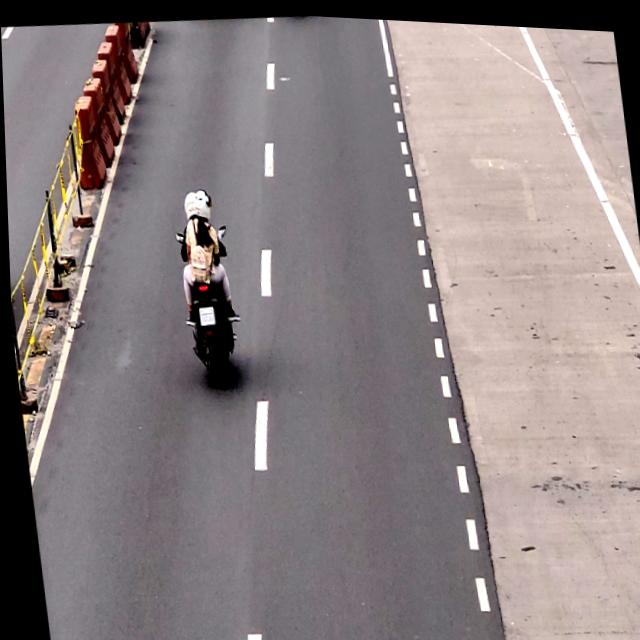Motorcycle: (168, 182, 243, 382)
